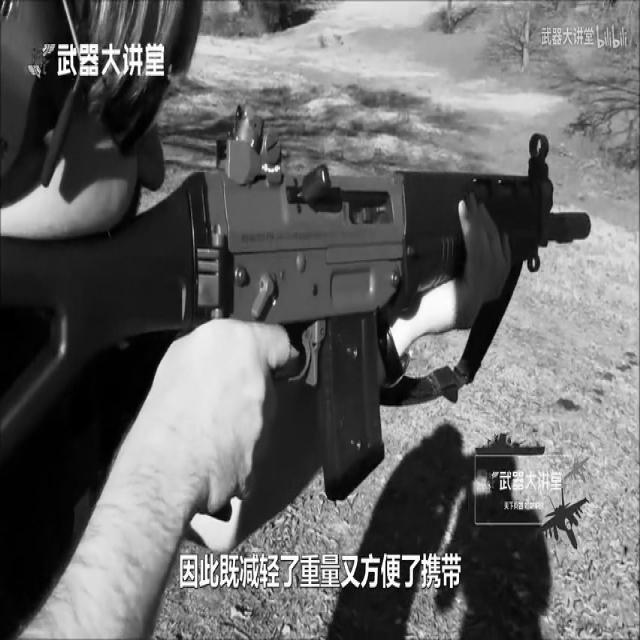Sub-machine-gun: (0, 111, 591, 473)
